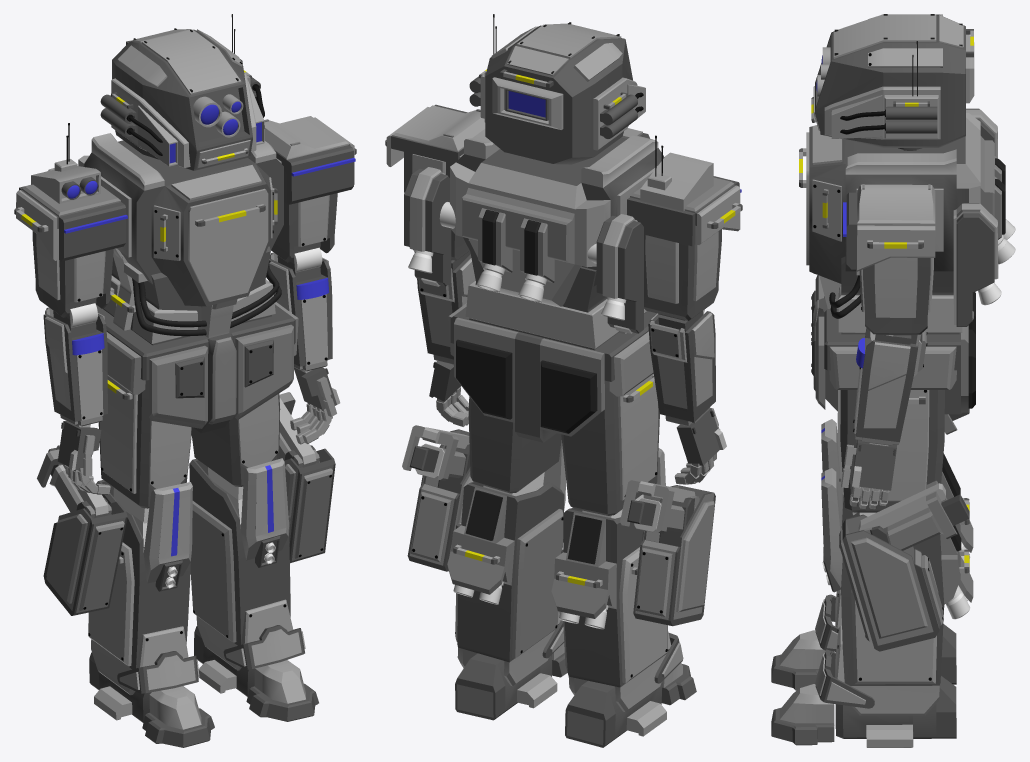
File: Arming Cage Assault Frame.fbx
3 views of the same model, side by side, from view 1: azimuth 30°, elevation 25°; view 2: azimuth 150°, elevation 25°; view 3: azimuth 270°, elevation 25° (orthographic). The views are drawn at different scales.
Visible parts, largest first — view 1: Assault_Frame_Posed; view 2: Assault_Frame_Posed; view 3: Assault_Frame_Posed.
Boxes of the visible parts, bbox=[...] form: Assault_Frame_Posed: bbox=[14, 14, 356, 747]; Assault_Frame_Posed: bbox=[385, 14, 742, 747]; Assault_Frame_Posed: bbox=[771, 14, 1015, 747].
Bounding box in the file's own units: 6.47 × 12.8 × 4.1.
